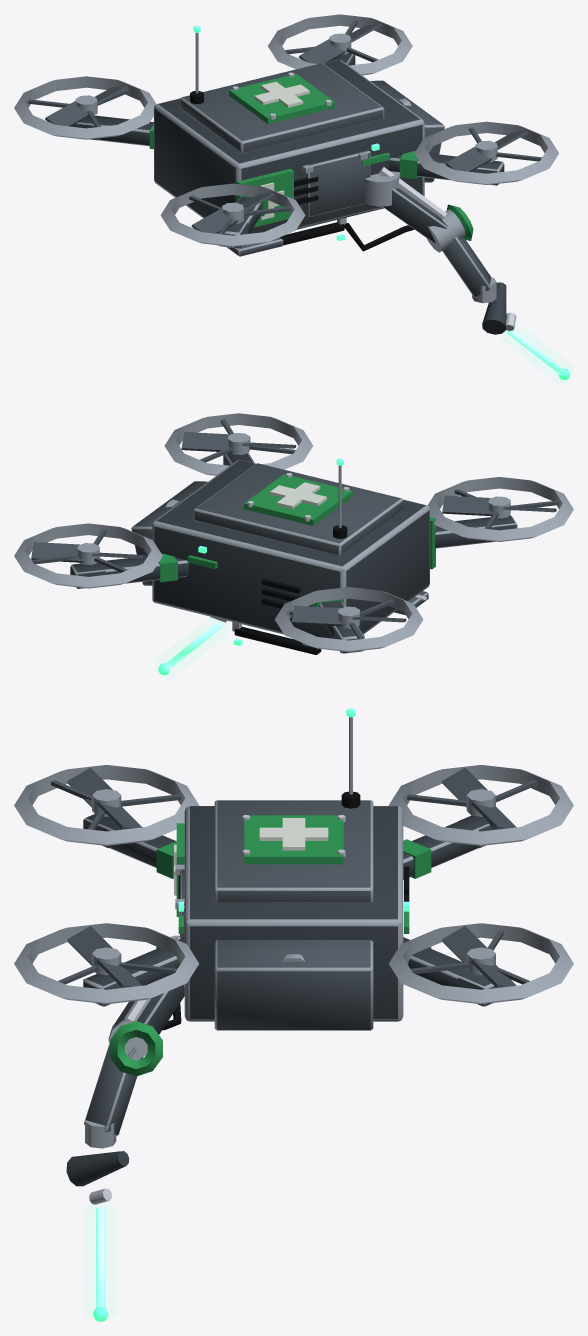
Rendered from enemigo_dron_reparador.glb.
3 views of the same model, one above another, from view 1: azimuth 30°, elevation 25°; view 2: azimuth 150°, elevation 25°; view 3: azimuth 270°, elevation 25° (orthographic). The views are drawn at different scales.
Parts seen in each view (by area): view 1: casco, tapa_superior, mov_brazo, guarda_rotor_4, guarda_rotor_3, guarda_rotor_2, portezuela, guarda_rotor_1, cruz_base, mov_rotor_4, mov_rotor_2, mov_rotor_1 (+9 smaller); view 2: casco, tapa_superior, guarda_rotor_1, guarda_rotor_2, guarda_rotor_3, guarda_rotor_4, cruz_base, mov_rotor_2, mov_rotor_3, mov_rotor_4, mov_rotor_1, brazo_rotor_1 (+8 smaller); view 3: casco, proa, tapa_superior, mov_brazo, guarda_rotor_4, guarda_rotor_1, guarda_rotor_2, guarda_rotor_3, cruz_base, mov_rotor_4, mov_rotor_2, mov_rotor_1 (+7 smaller).
Part boxes in pixels (<box>): casco: <box>154,60,424,233</box>; tapa_superior: <box>180,63,384,153</box>; mov_brazo: <box>344,166,516,334</box>; guarda_rotor_4: <box>414,121,558,184</box>; guarda_rotor_3: <box>160,183,305,246</box>; guarda_rotor_2: <box>14,76,156,139</box>; portezuela: <box>307,150,370,216</box>; guarda_rotor_1: <box>268,14,412,75</box>; cruz_base: <box>229,73,335,123</box>; mov_rotor_4: <box>445,130,527,171</box>; mov_rotor_2: <box>45,85,127,126</box>; mov_rotor_1: <box>299,23,381,63</box>; casco: <box>152,460,429,638</box>; tapa_superior: <box>193,463,403,555</box>; guarda_rotor_1: <box>14,523,162,588</box>; guarda_rotor_2: <box>274,587,423,651</box>; guarda_rotor_3: <box>427,477,573,541</box>; guarda_rotor_4: <box>164,413,313,475</box>; cruz_base: <box>244,474,352,525</box>; mov_rotor_2: <box>291,605,406,628</box>; mov_rotor_3: <box>442,495,556,518</box>; mov_rotor_4: <box>181,432,296,454</box>; mov_rotor_1: <box>31,542,145,564</box>; brazo_rotor_1: <box>70,556,188,588</box>; casco: <box>184,806,403,1021</box>; proa: <box>214,940,373,1030</box>; tapa_superior: <box>214,800,373,902</box>; mov_brazo: <box>66,935,184,1204</box>; guarda_rotor_4: <box>14,923,199,1004</box>; guarda_rotor_1: <box>388,923,573,1004</box>; guarda_rotor_2: <box>388,765,573,845</box>; guarda_rotor_3: <box>14,765,199,845</box>; cruz_base: <box>244,815,343,864</box>; mov_rotor_4: <box>67,926,141,987</box>; mov_rotor_2: <box>441,767,516,829</box>; mov_rotor_1: <box>441,926,516,987</box>.
Bounding box in the file's own units: 0.89 × 0.7472 × 0.8457.
